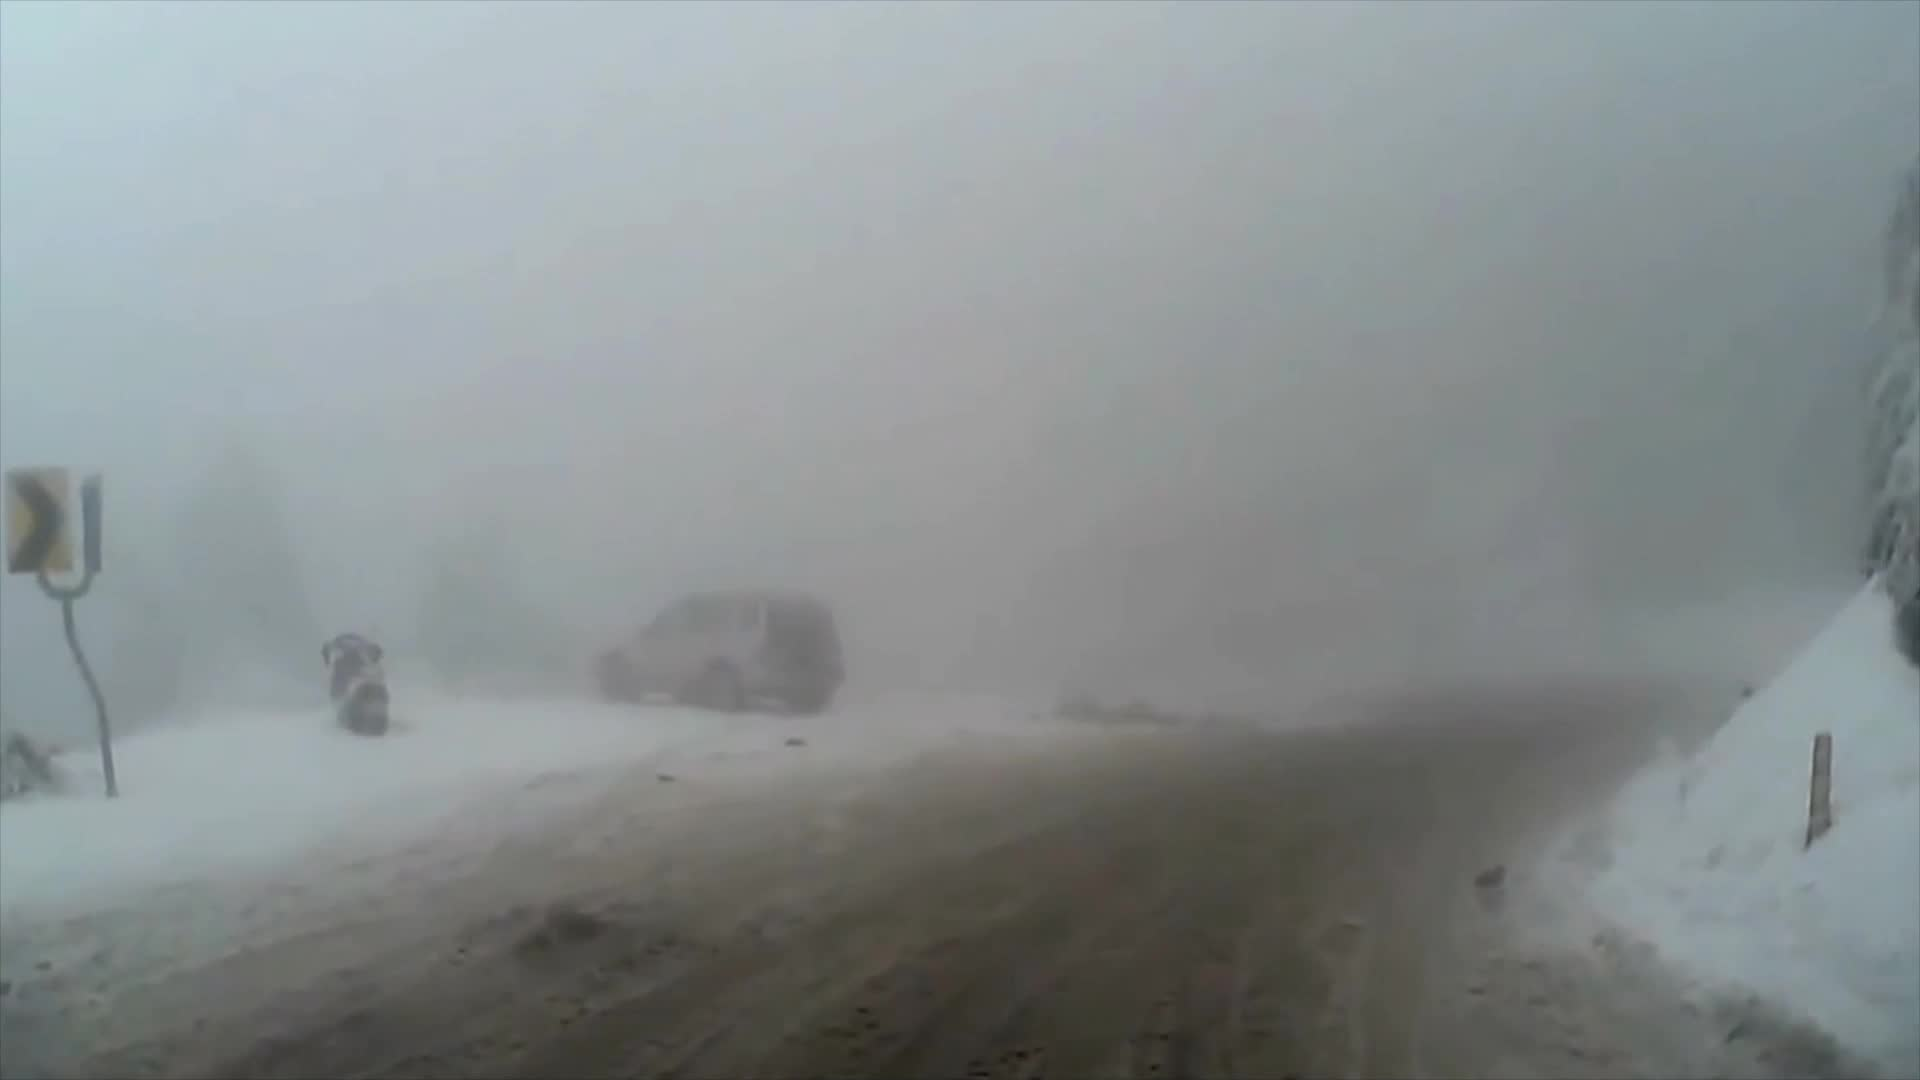vehicle: (596, 592, 847, 717)
